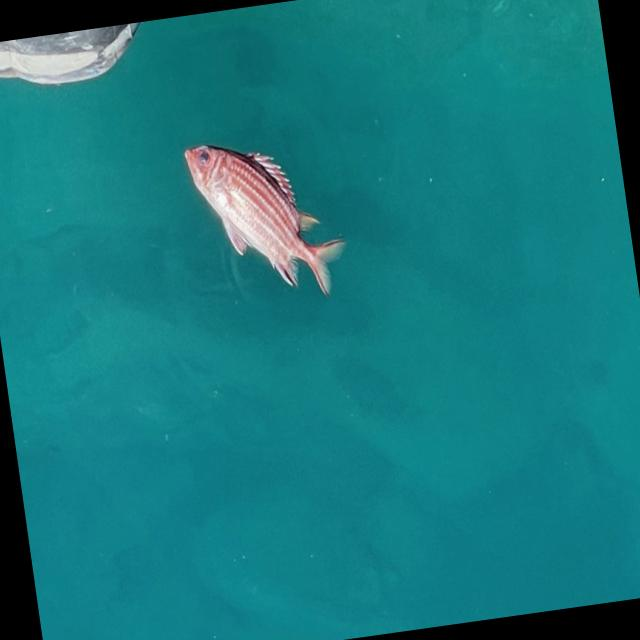Asker Baligi: (180, 124, 352, 314)
